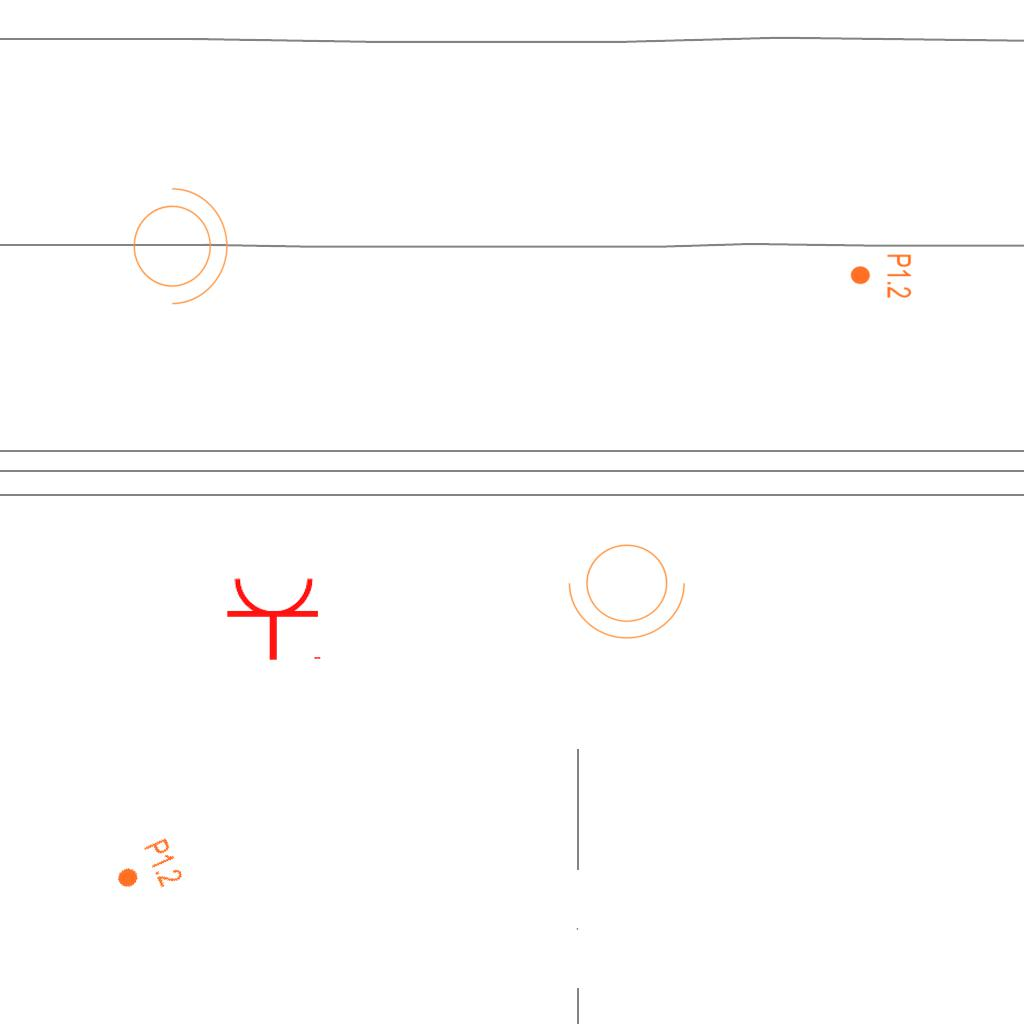Downlight_LED_Einbauleuchten_Flur: (108, 835, 186, 905), (849, 253, 913, 299)
Scheinwerfer_fuer_Alarmbeleuchtung: (121, 177, 233, 309), (564, 532, 696, 644)
Schukosteckdose_einfach: (225, 575, 325, 662)
